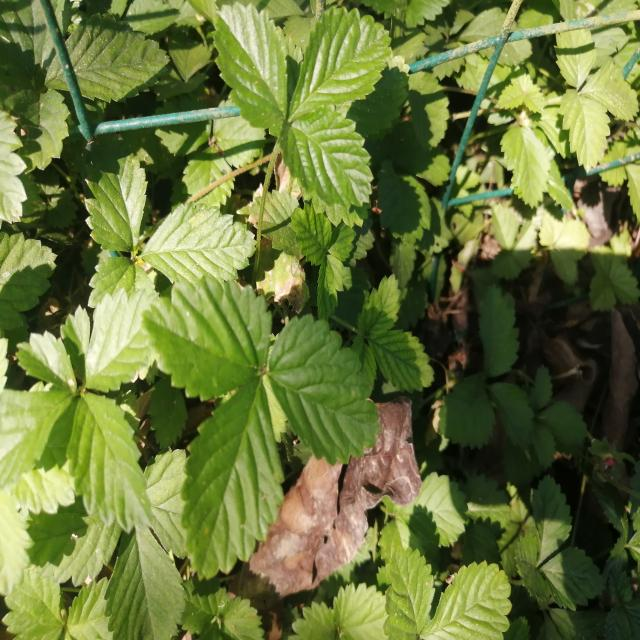Mock_strawberry: (147, 272, 369, 576), (6, 290, 167, 550), (208, 19, 394, 233)
